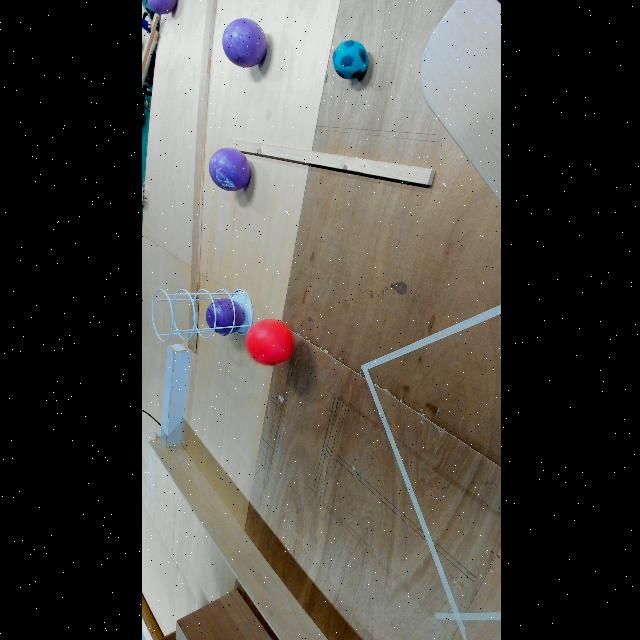P: (220, 18, 266, 68), (206, 146, 250, 192), (203, 297, 243, 335), (144, 0, 176, 14)
R: (244, 319, 292, 367)
S: (149, 288, 253, 342)
